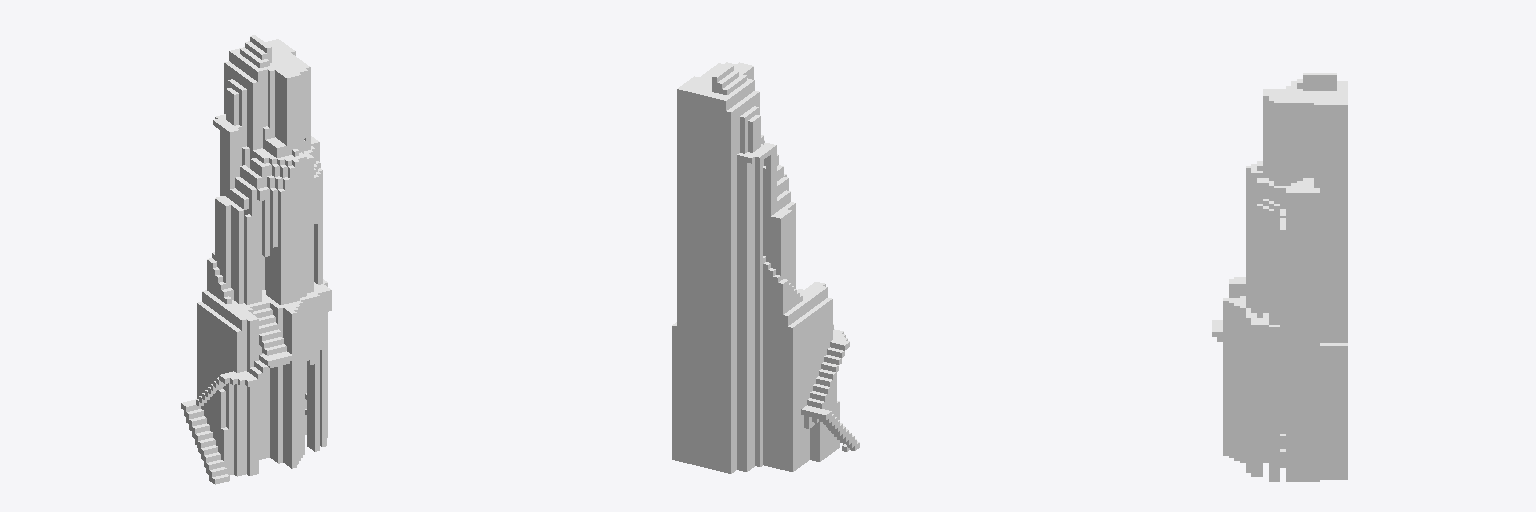
Rendered from chateau.obj.
The picture shows the model from 3 angles: view 1: azimuth 30°, elevation 25°; view 2: azimuth 150°, elevation 25°; view 3: azimuth 270°, elevation 25°; orthographic projection.
Visible parts, largest first — view 1: object 1; view 2: object 1; view 3: object 1.
Boxes of the visible parts, x1,y1,x2,y2 form: object 1: [181, 35, 331, 484]; object 1: [672, 62, 859, 473]; object 1: [1212, 73, 1347, 481].
Size of the model in its own units: 2.7 by 7.5 by 2.4.